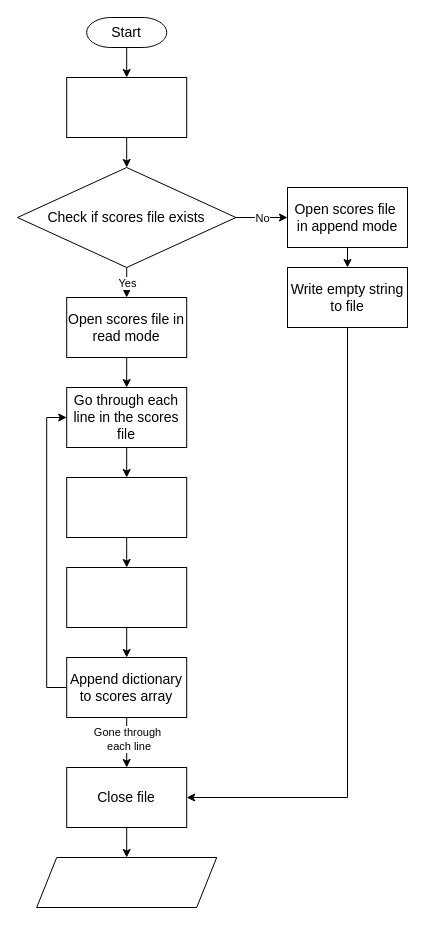
Image size: 425x925. Some labels were removed from this diagram. The shapes that lost their labels are listed below. From the top down, each one's centre as x and y in pixels, then its label:
point (126, 107): scores = []
point (126, 507): Split line into each stat value
point (126, 597): Create a dictionary for the score
point (126, 882): return scores
